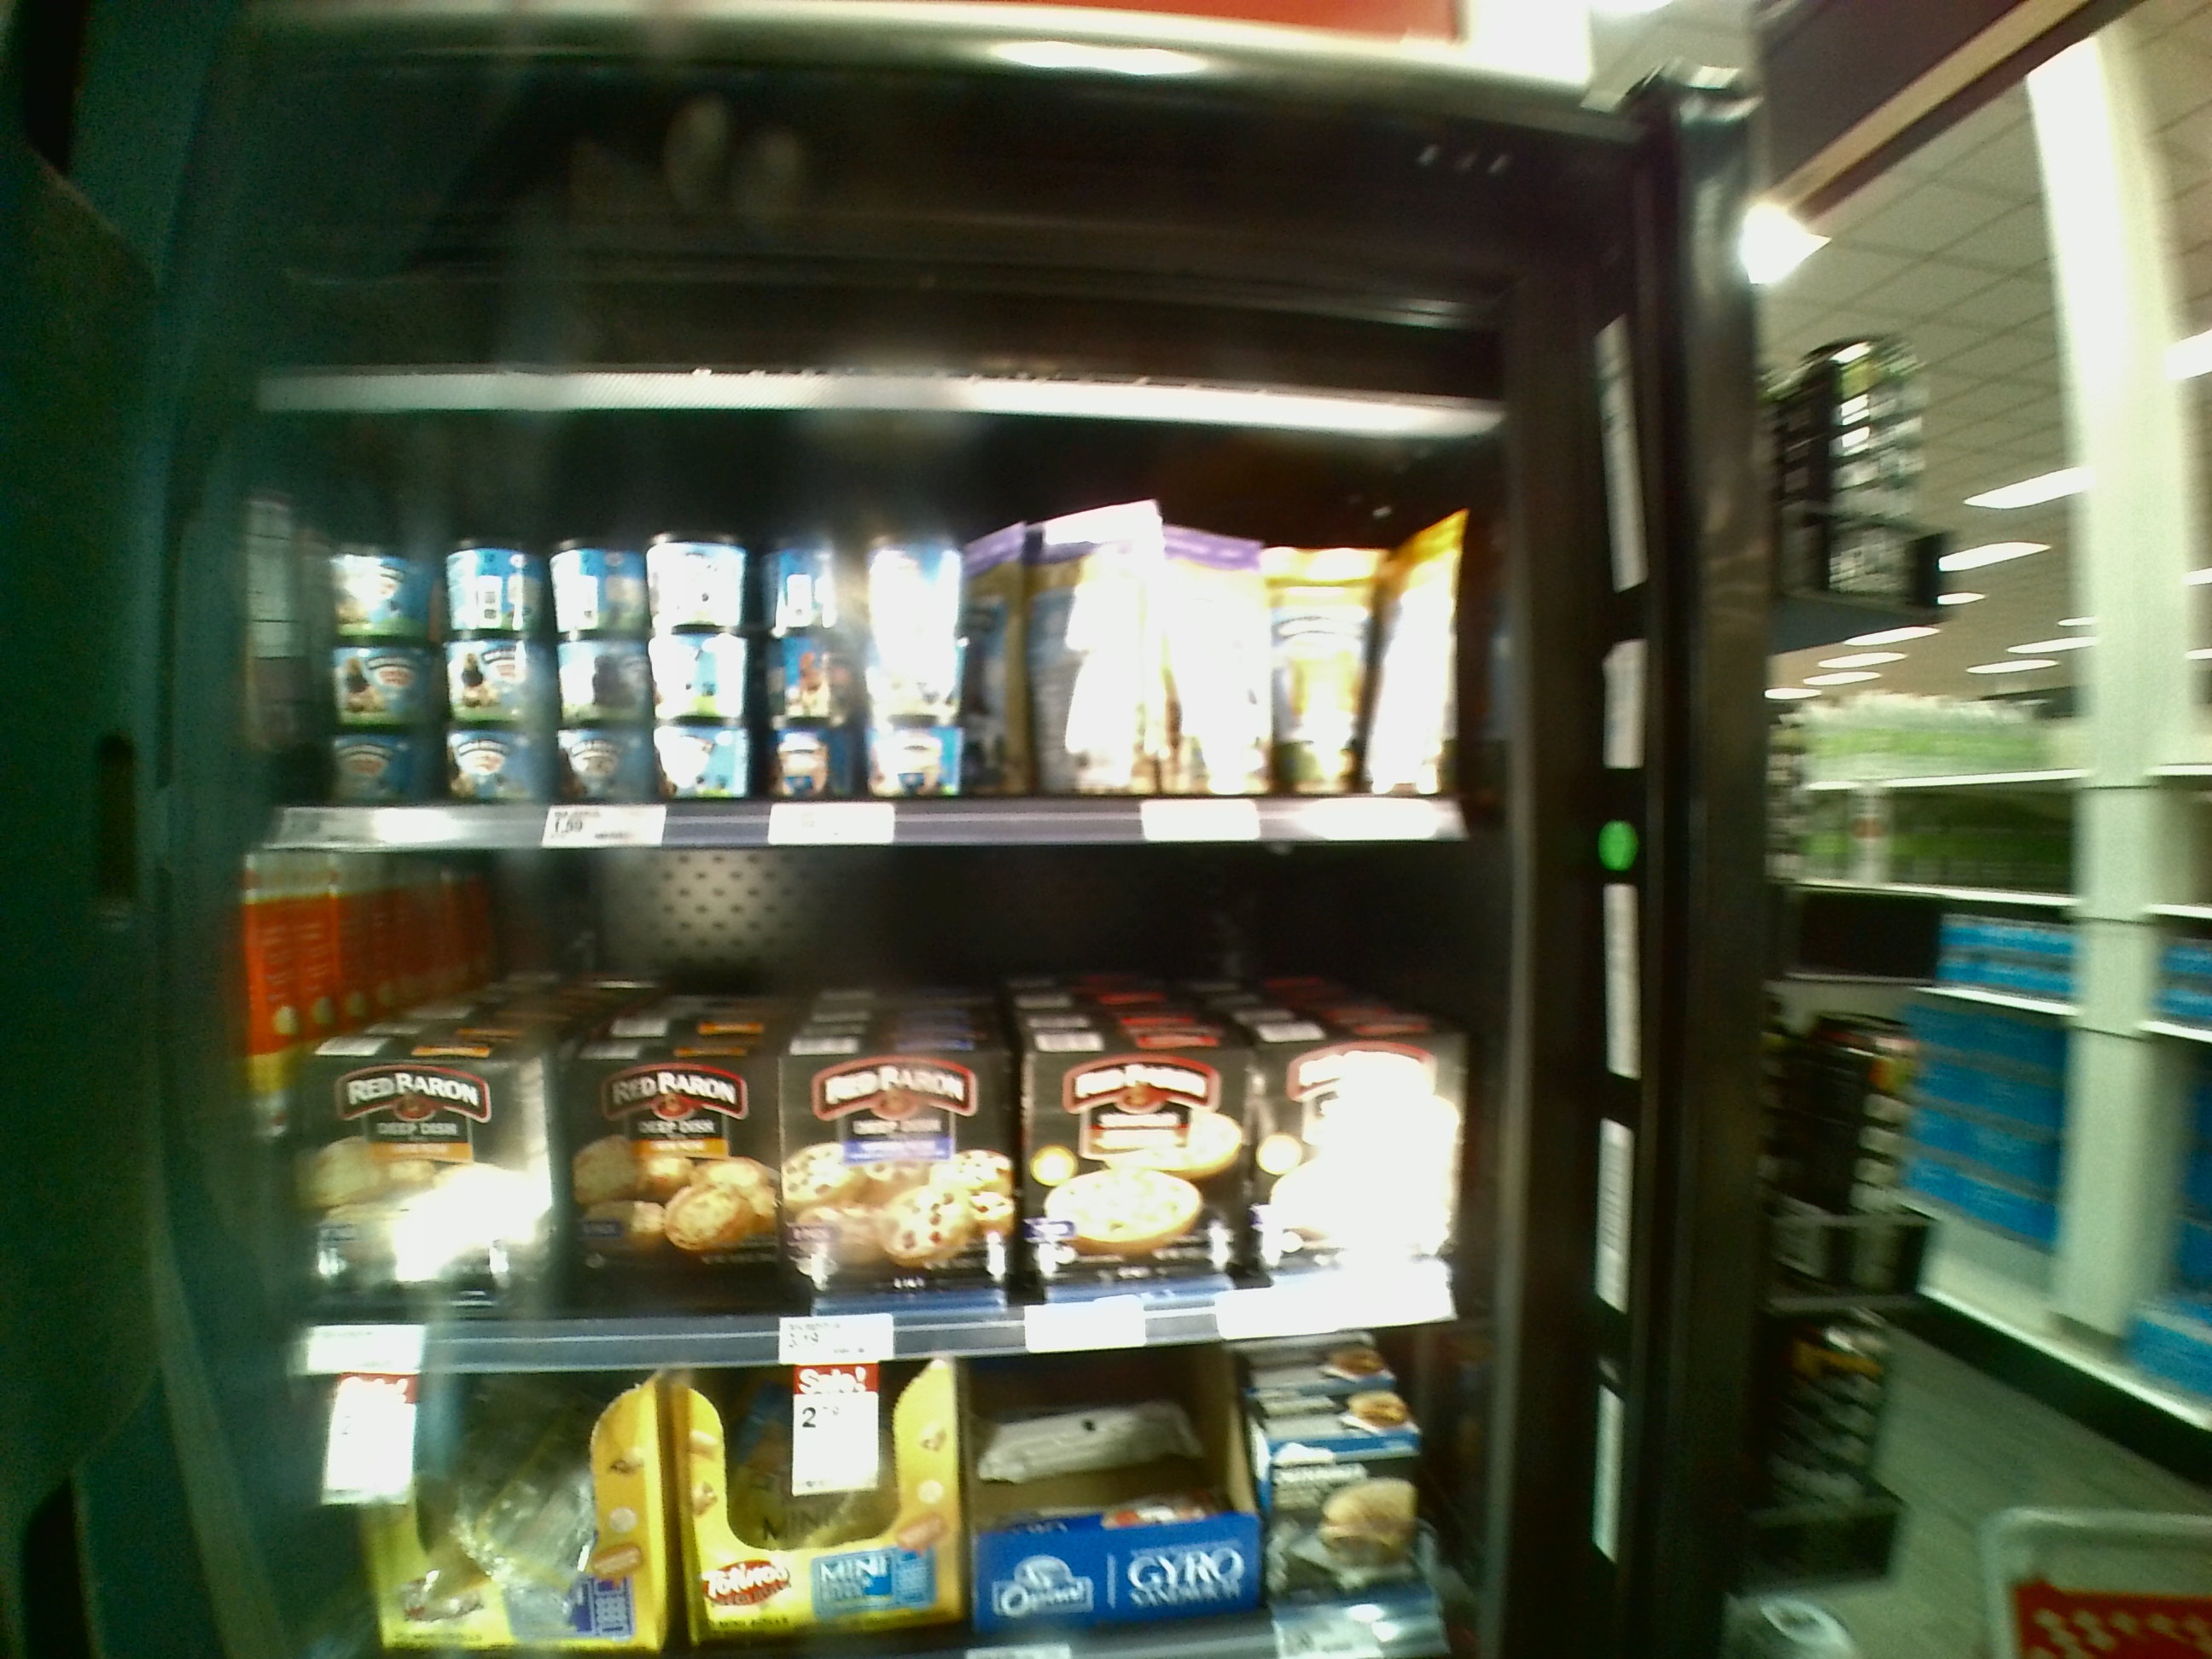shelf: (277, 854, 1480, 1363), (258, 403, 1458, 842)
